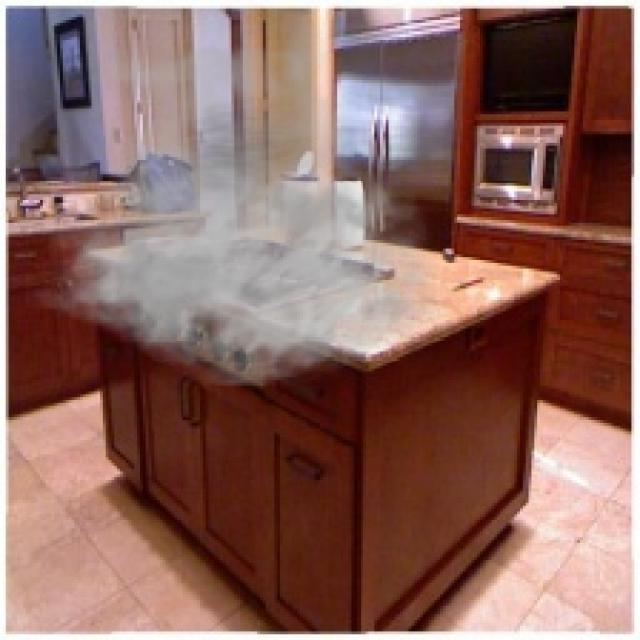Smoke: (26, 11, 452, 388)
